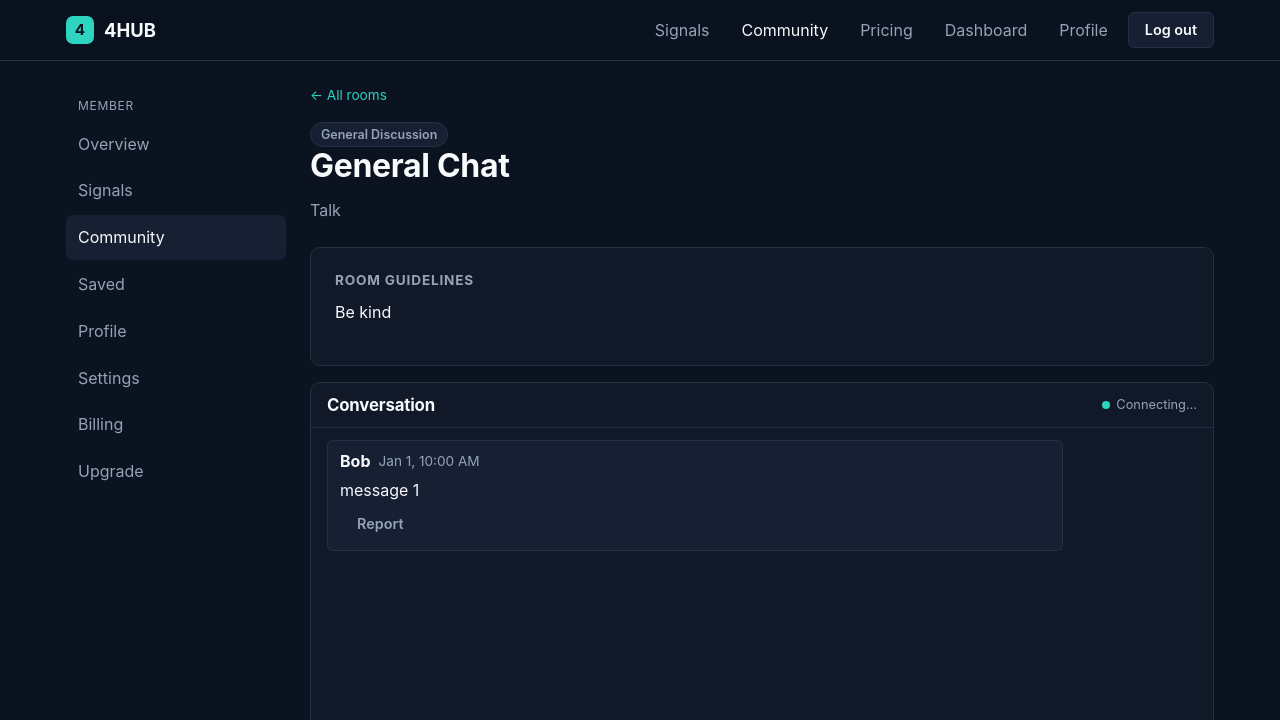
Test: reporting a message › shows the rate-limit message and keeps the form open
The image size is (1280, 720).
Click the button with aria-label "Report message from Bob": (380, 524) [340,506,420,542]
(page scrolled)
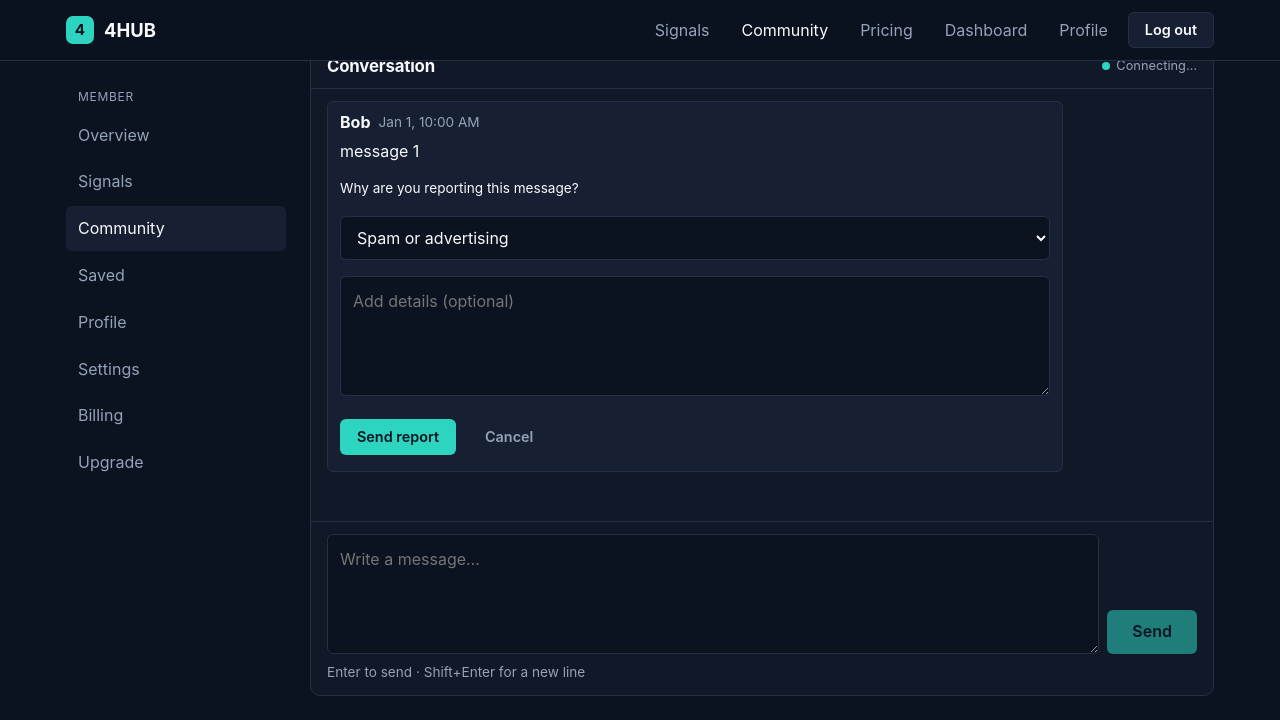
Click the button "Send report": (398, 437) [340,419,456,455]
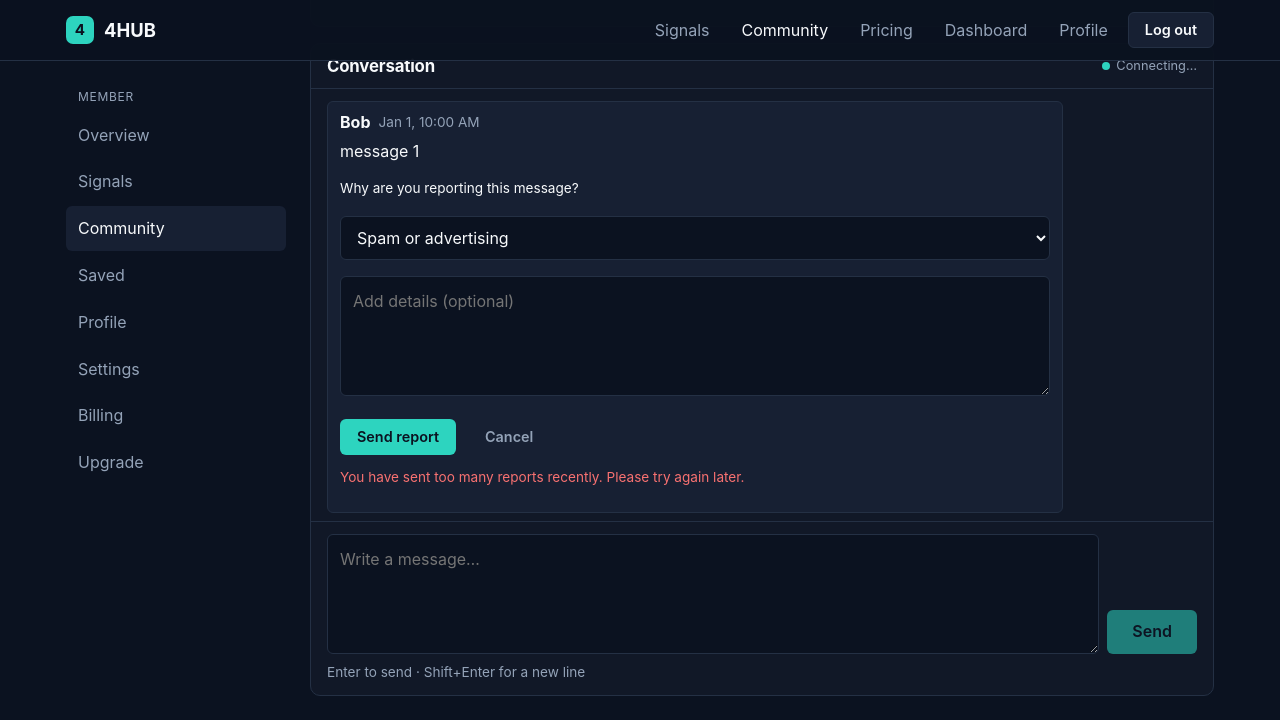
Expected: the button "Send report" is shown, [340,419,456,455]
Expected: the text "You have sent too many reports recently. Please try again later." is shown, [340,469,744,485]
